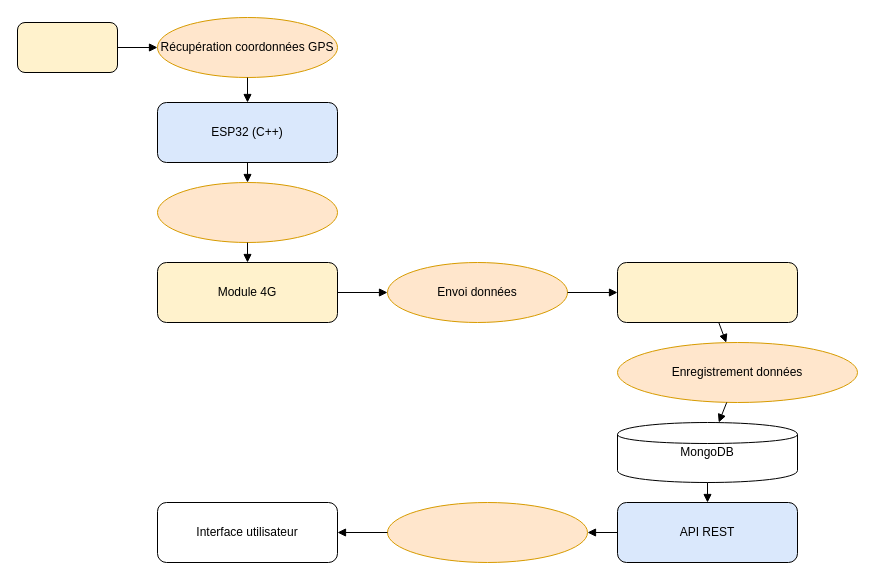
Some shapes in this 875 by 580 pixel diagram are drawn without their labels. Each missing label, with the box of its shape:
GNSS: (16, 22, 118, 72)
Récupération des données: (386, 502, 588, 562)
Serveur TCP (NodeJS): (616, 262, 798, 322)
Transmission des coordonnées GPS: (156, 182, 338, 242)
